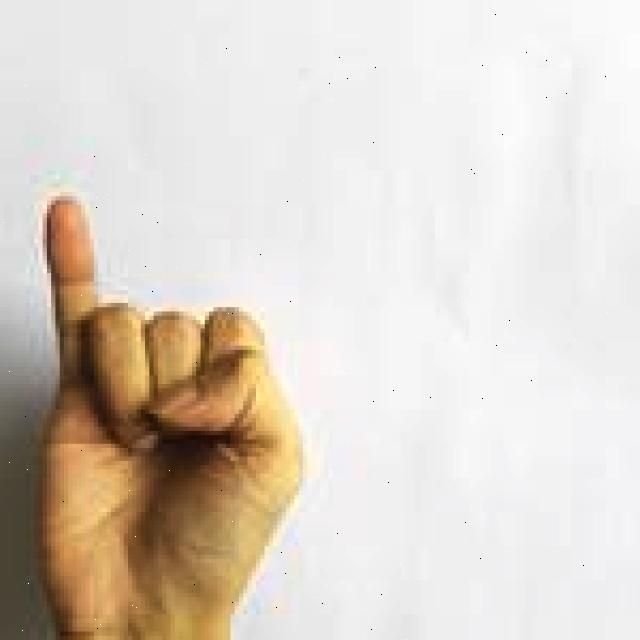I: (31, 189, 309, 640)
